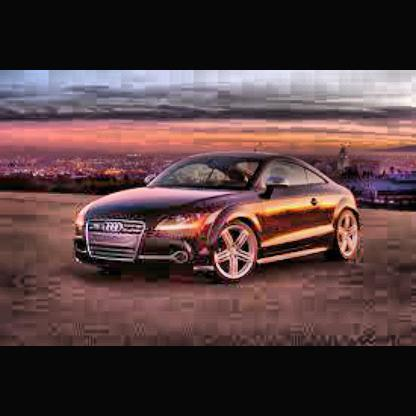Audi TT Hatchback 2011: (75, 160, 362, 285)
